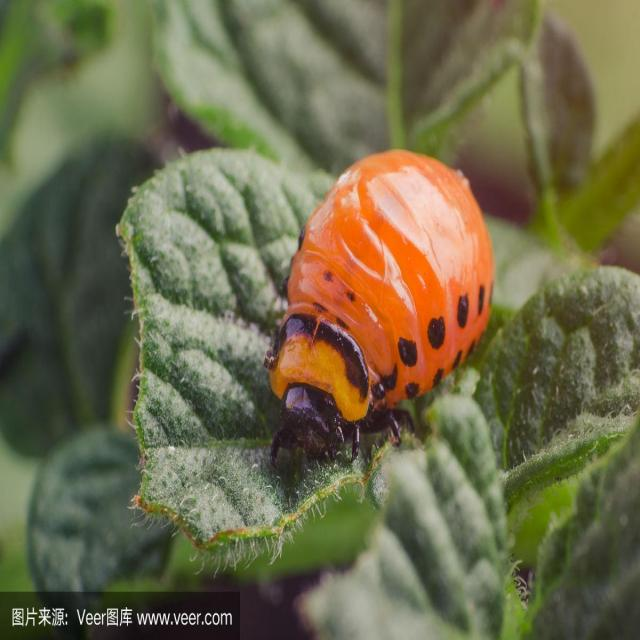ShuCaiHuaBanChong-Larva-: (266, 123, 489, 450)
